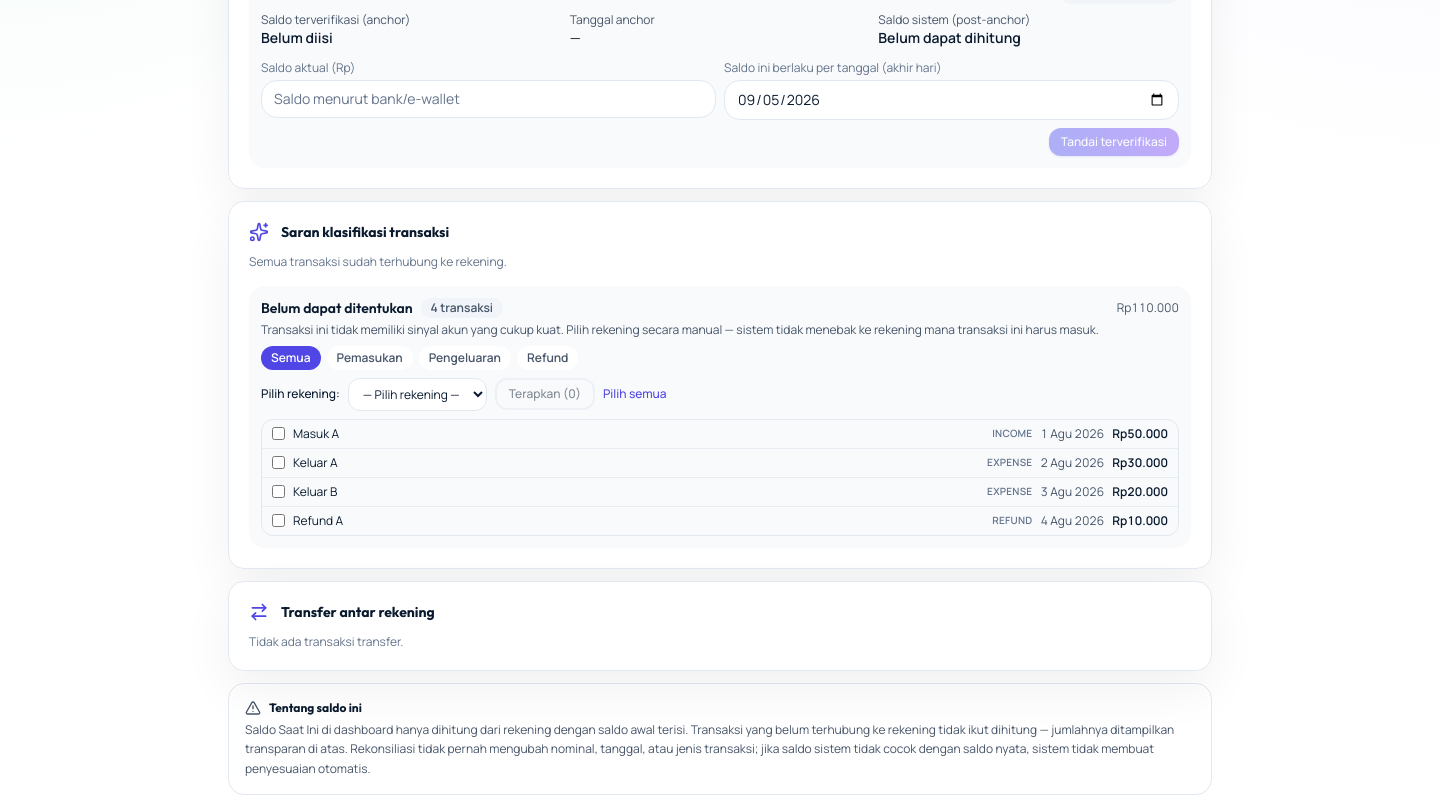
Test: ReconciliationPage P3.0 — filter LOW (§12), mismatch hints (§18), step indicator (§28) › filter jenis: klik "Pengeluaran" → hanya transaksi expense yang tampil & Terapkan menghitung item ter-filter
The width and height of the screenshot is (1440, 799).
(page scrolled)
Expected: the heading "Belum dapat ditentukan" is shown, [261, 298, 413, 318]
Select "blu" in the dropdown labelled "Pilih rekening:" at (417, 394), box [348, 378, 487, 410]
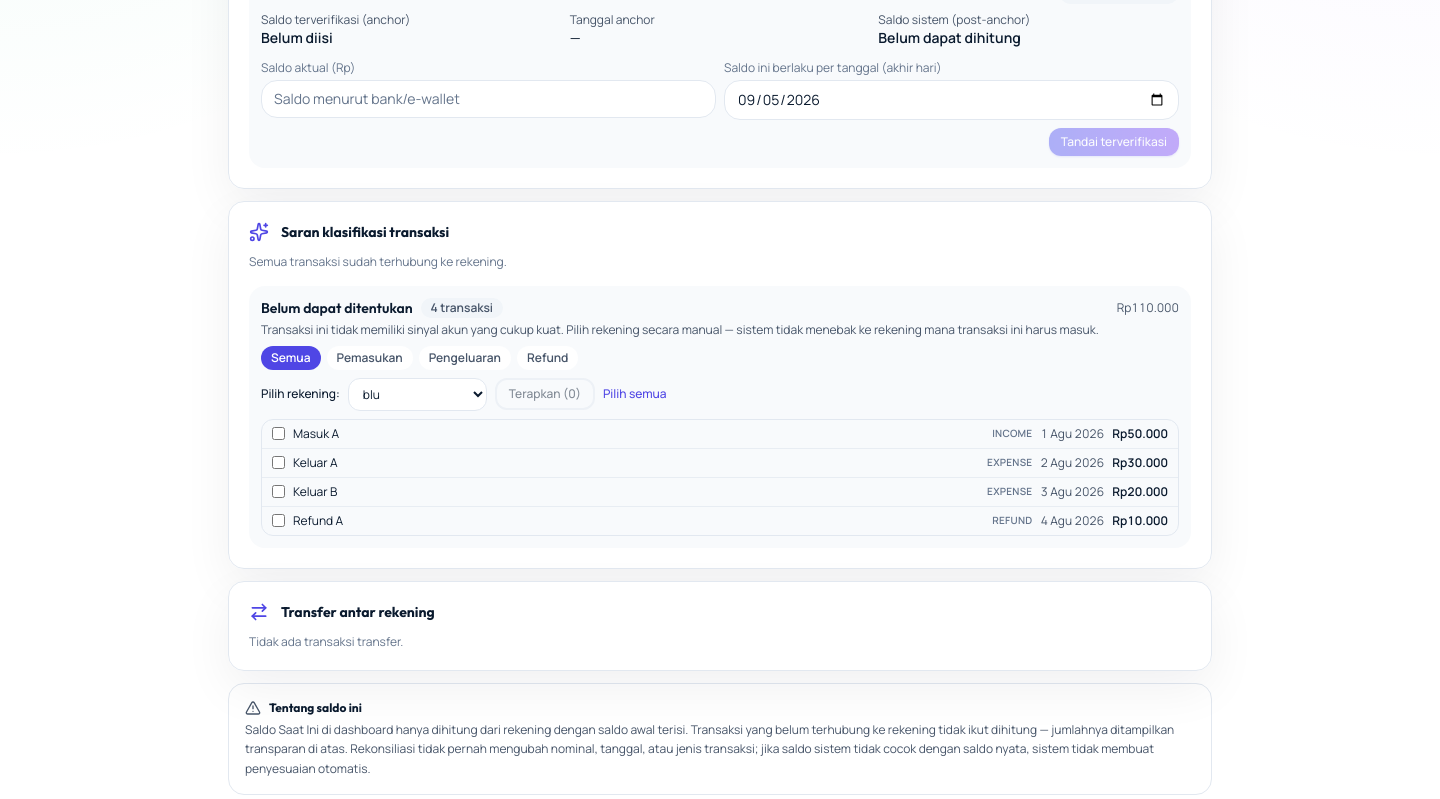
Click the button "Pilih semua" at (635, 394), box [603, 386, 667, 402]
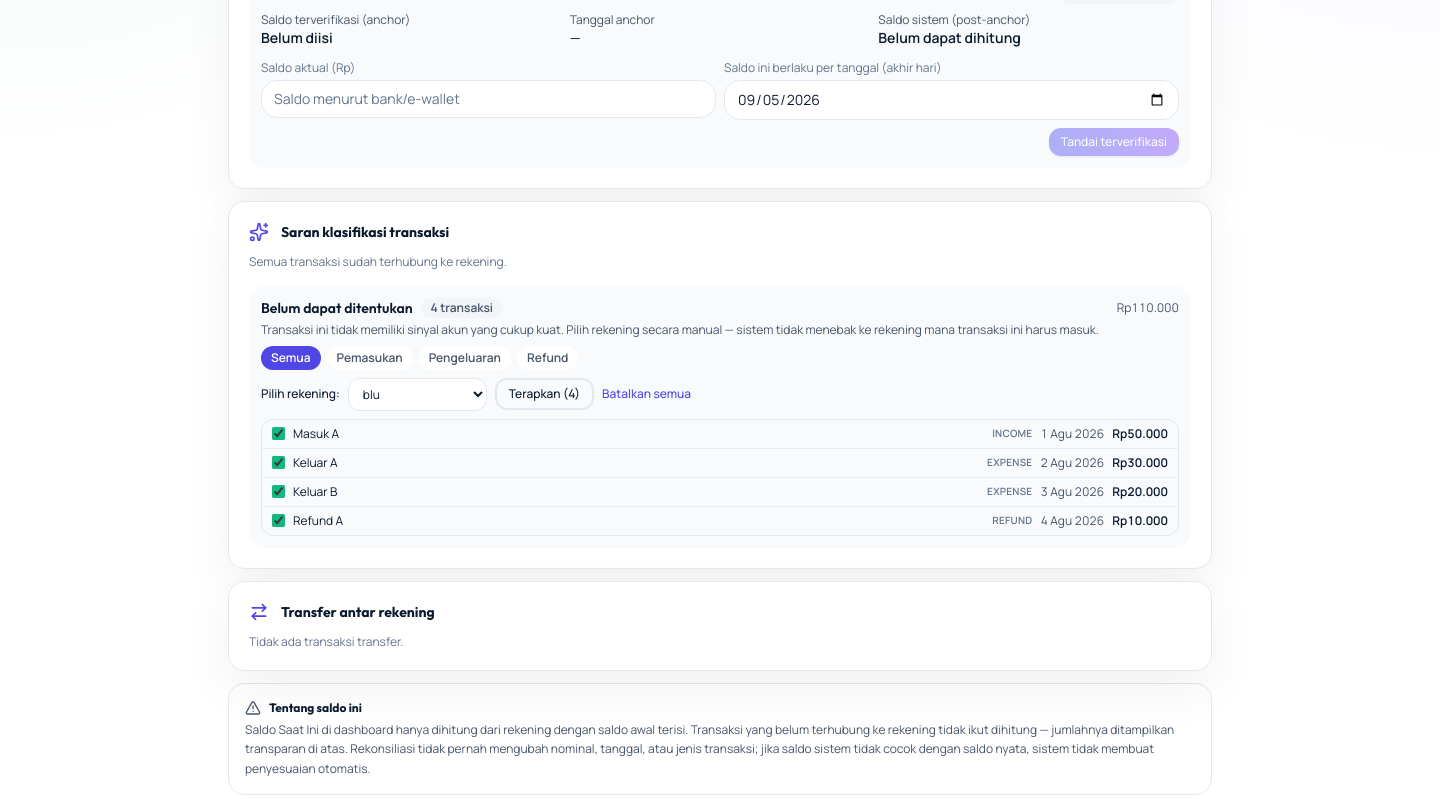
Expected: the button "Terapkan (4)" is enabled, [495, 378, 594, 410]
Click the button "Pengeluaran" at (465, 358), box [419, 346, 511, 370]
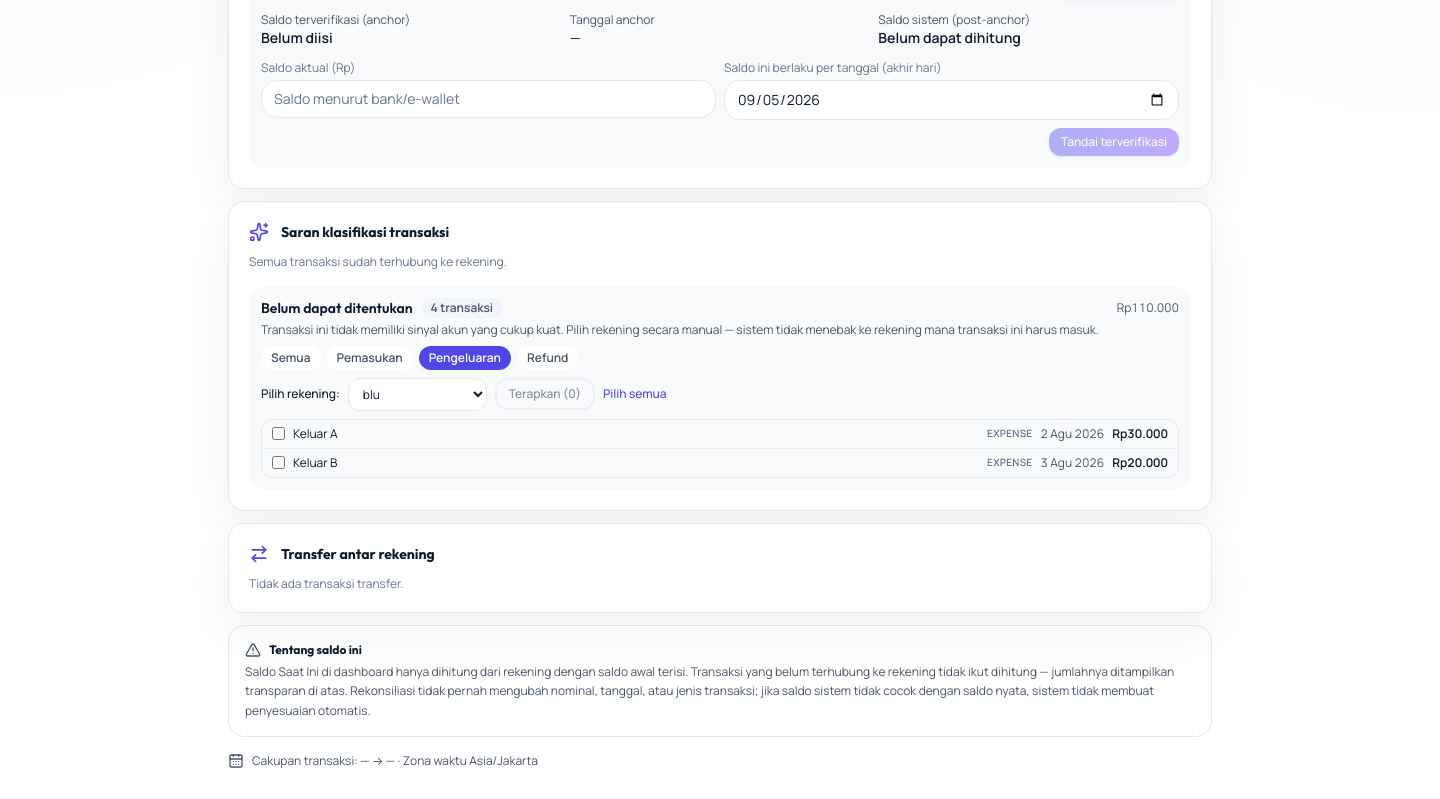
Expected: the text "Masuk A" is gone
Expected: the text "Refund A" is gone
Expected: the button "Terapkan (0)" is disabled, [495, 378, 595, 410]
Click the button "Pilih semua" at (635, 394), box [603, 386, 667, 402]
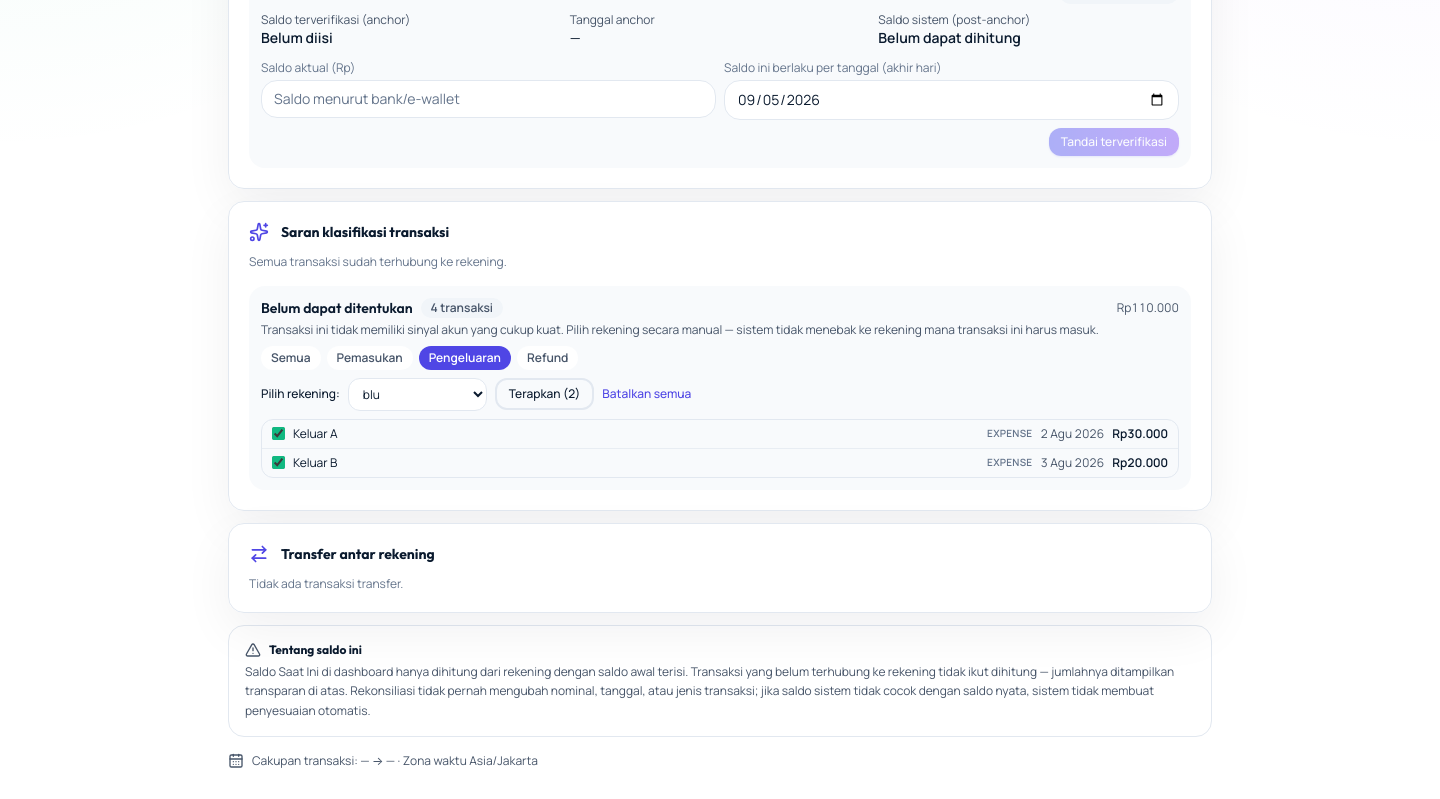
Expected: the button "Terapkan (2)" is enabled, [495, 378, 594, 410]
